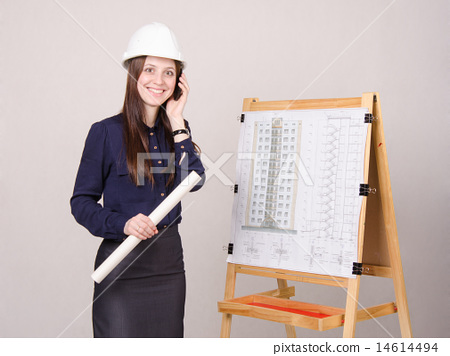phone: (171, 70, 189, 100)
talk: (137, 63, 190, 114)
